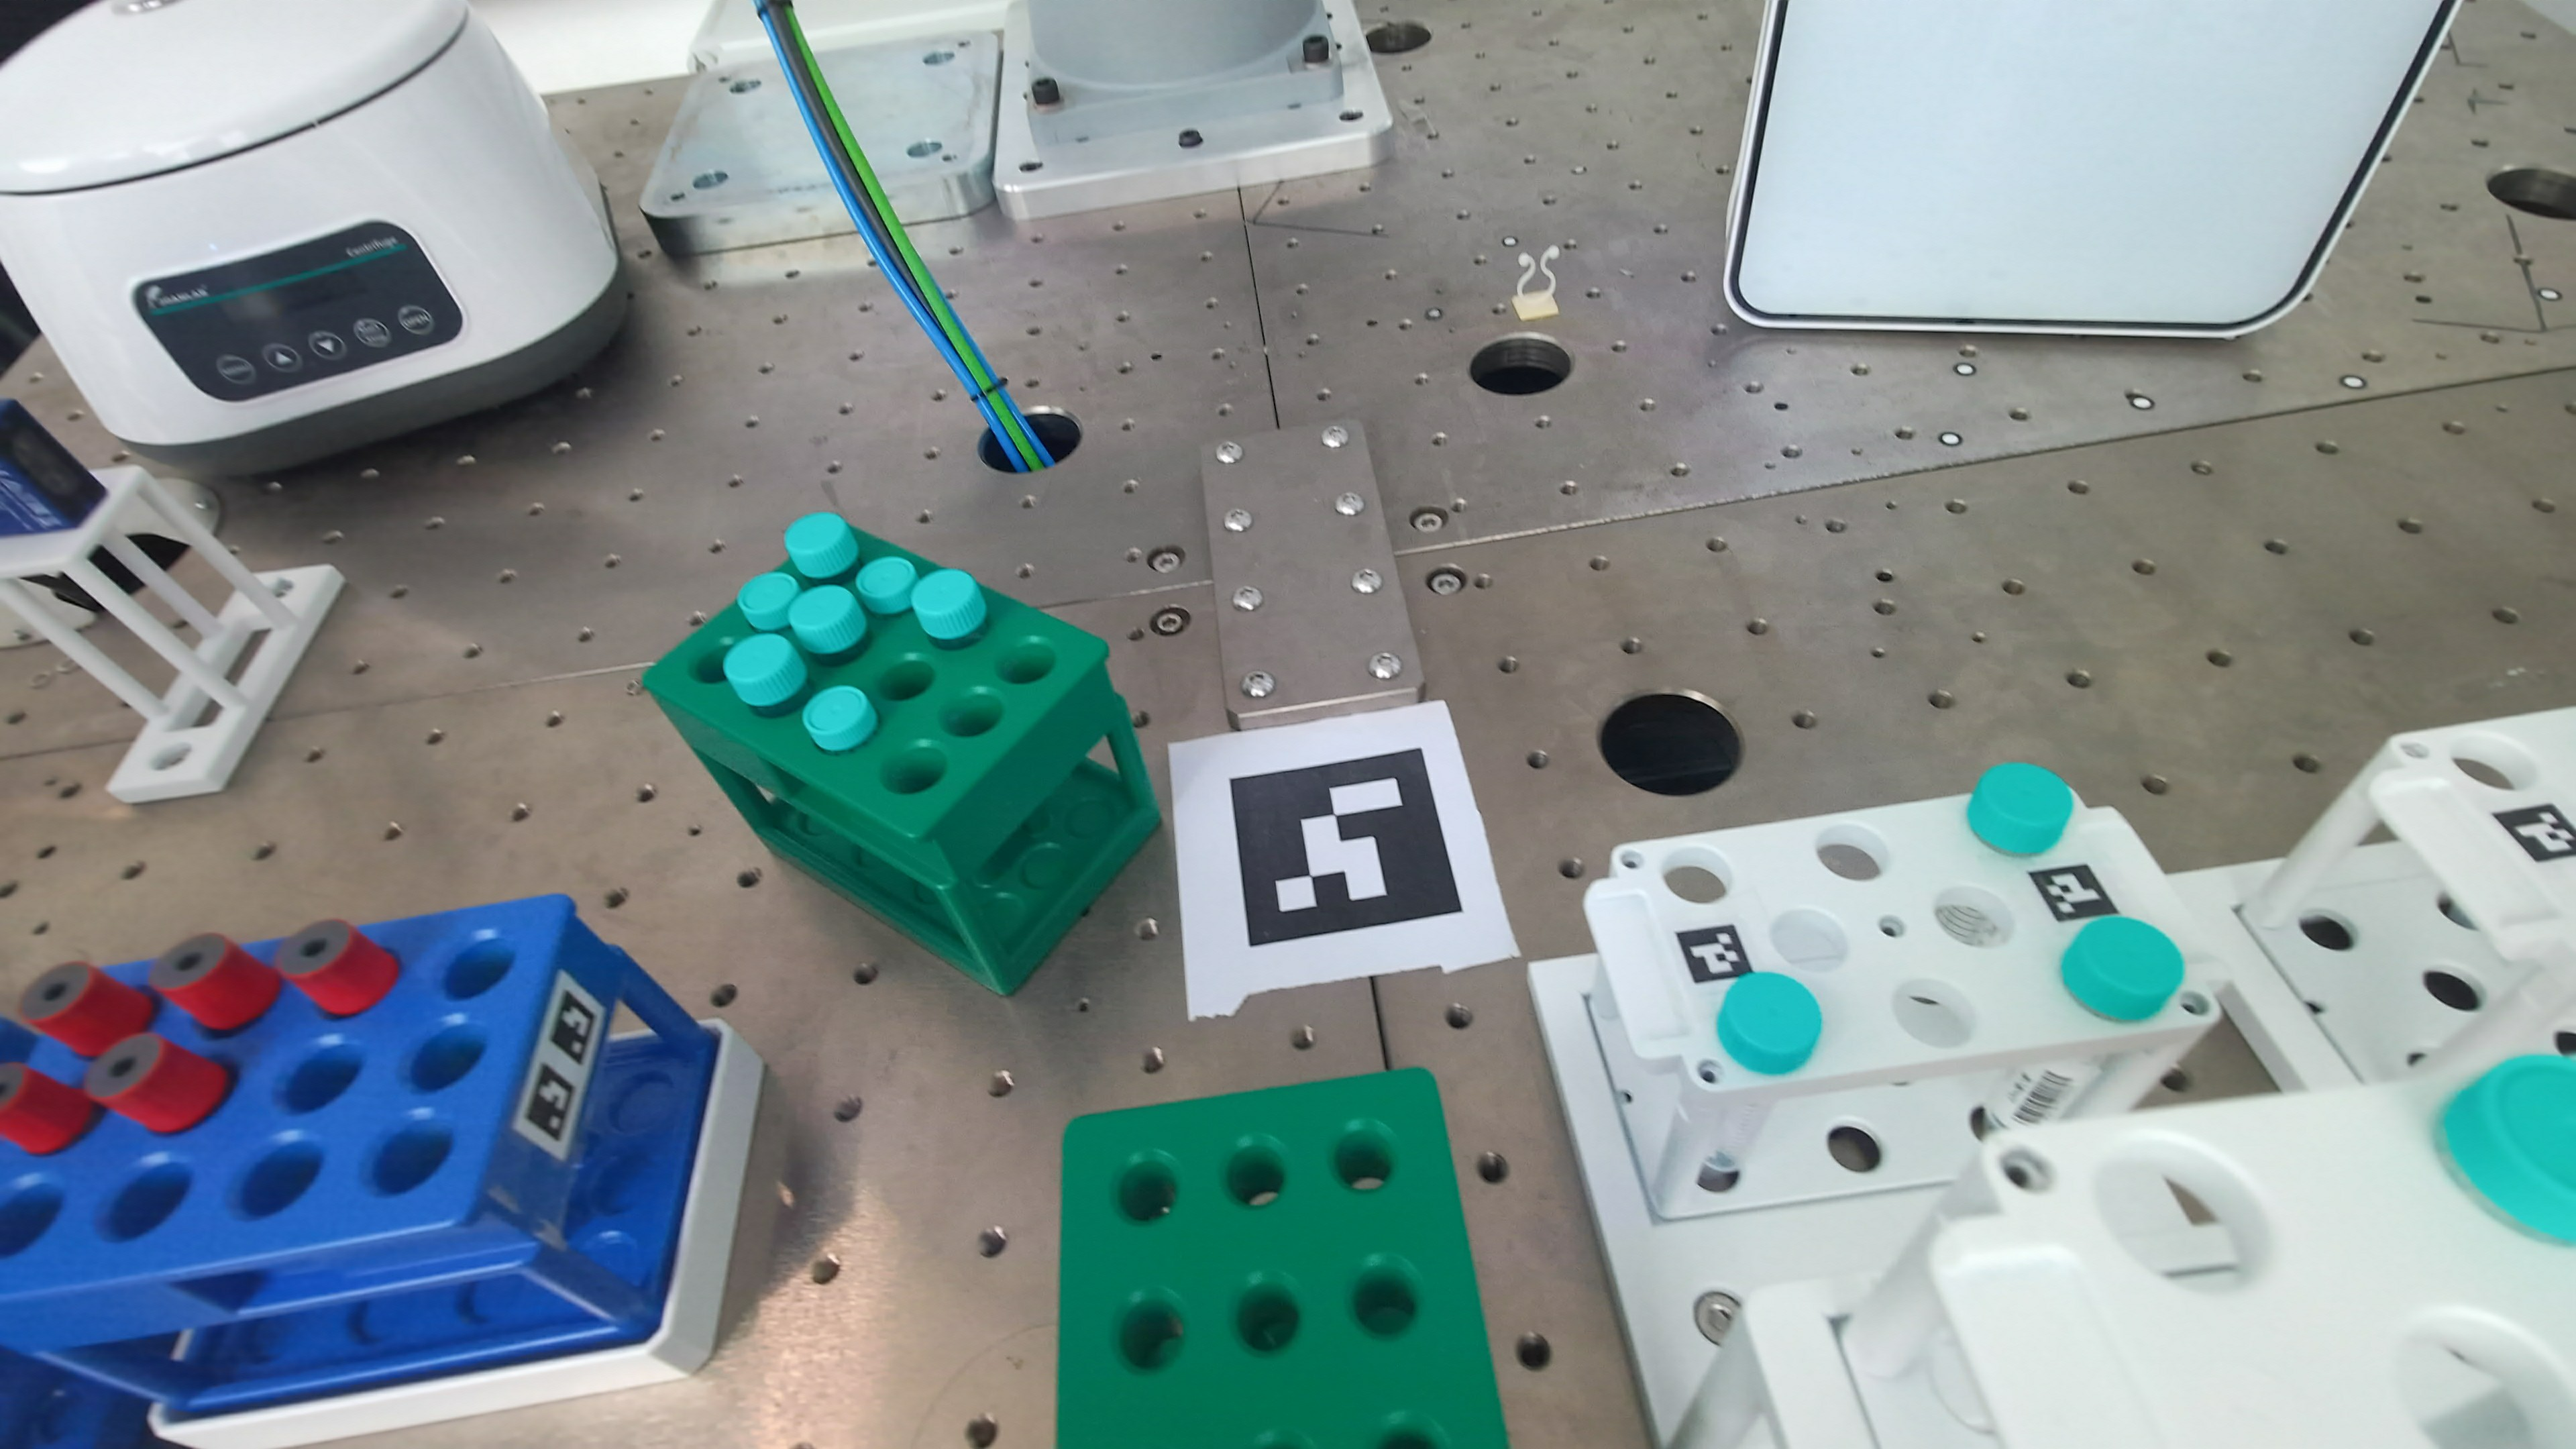10ML_centrifuge_tube: (2061, 915, 2185, 1021), (1716, 971, 1822, 1076), (1967, 763, 2074, 855), (724, 633, 807, 711), (789, 586, 867, 655), (784, 513, 858, 580)
10ML_sorting_tube_rack: (0, 895, 718, 1415)
5ML_centrifuge_tube: (2442, 1054, 2576, 1244), (803, 686, 878, 752), (855, 556, 918, 616), (736, 571, 800, 632)
5ML_sorting_tube_rack: (642, 513, 1159, 993), (1056, 1069, 1506, 1447)
blood_tube: (85, 1033, 230, 1132), (149, 932, 283, 1030), (19, 961, 154, 1056), (274, 920, 400, 1016), (0, 1063, 99, 1154)
centrifuge_close: (0, 0, 626, 474)
dispensing_tube_rack: (1530, 708, 2576, 1447)
refrigerator_close: (1723, 0, 2457, 338)
sorting_tube_rack_base: (150, 1019, 763, 1449)
